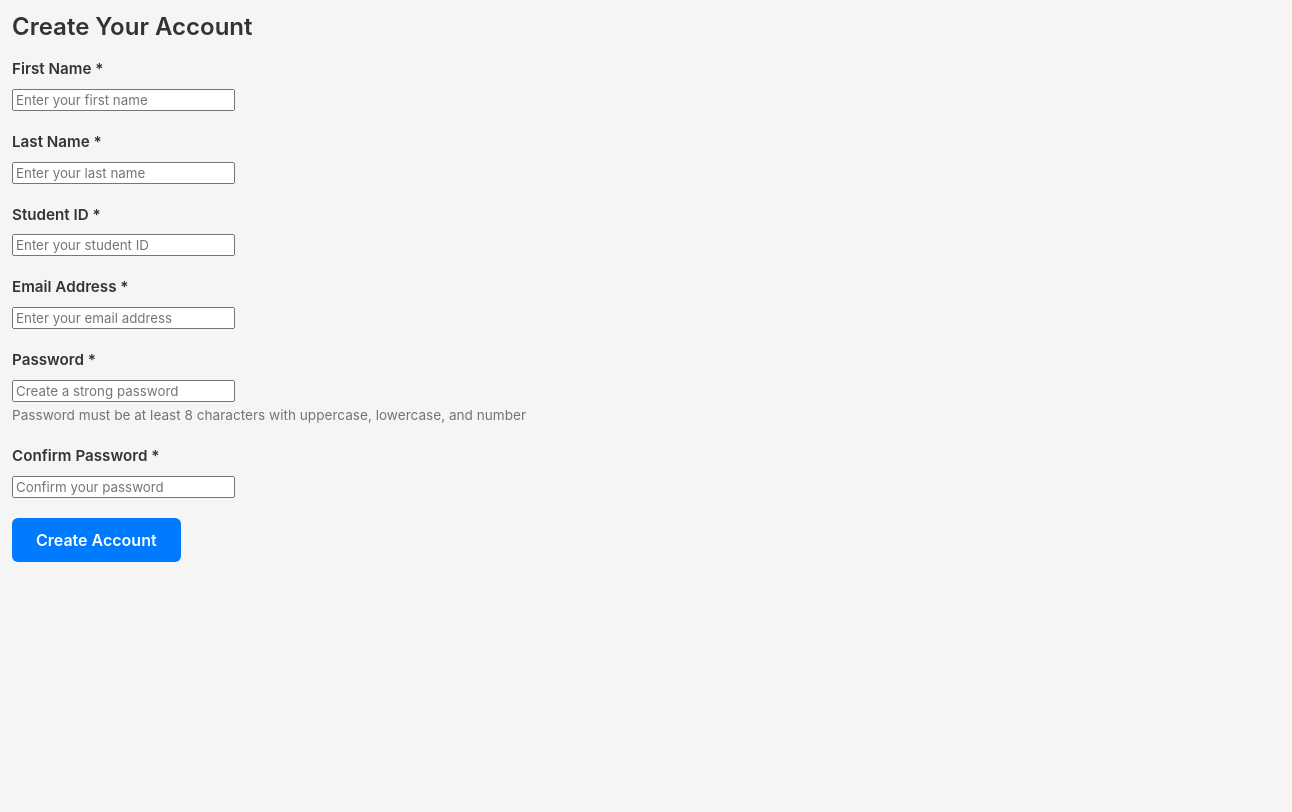
RegisterForm › handles register action throwing an error
Type "John" into the field labelled "First Name *" at [124, 100], box [12,89,235,111]
Type "Doe" into the field labelled "Last Name *" at [124, 173], box [12,162,235,184]
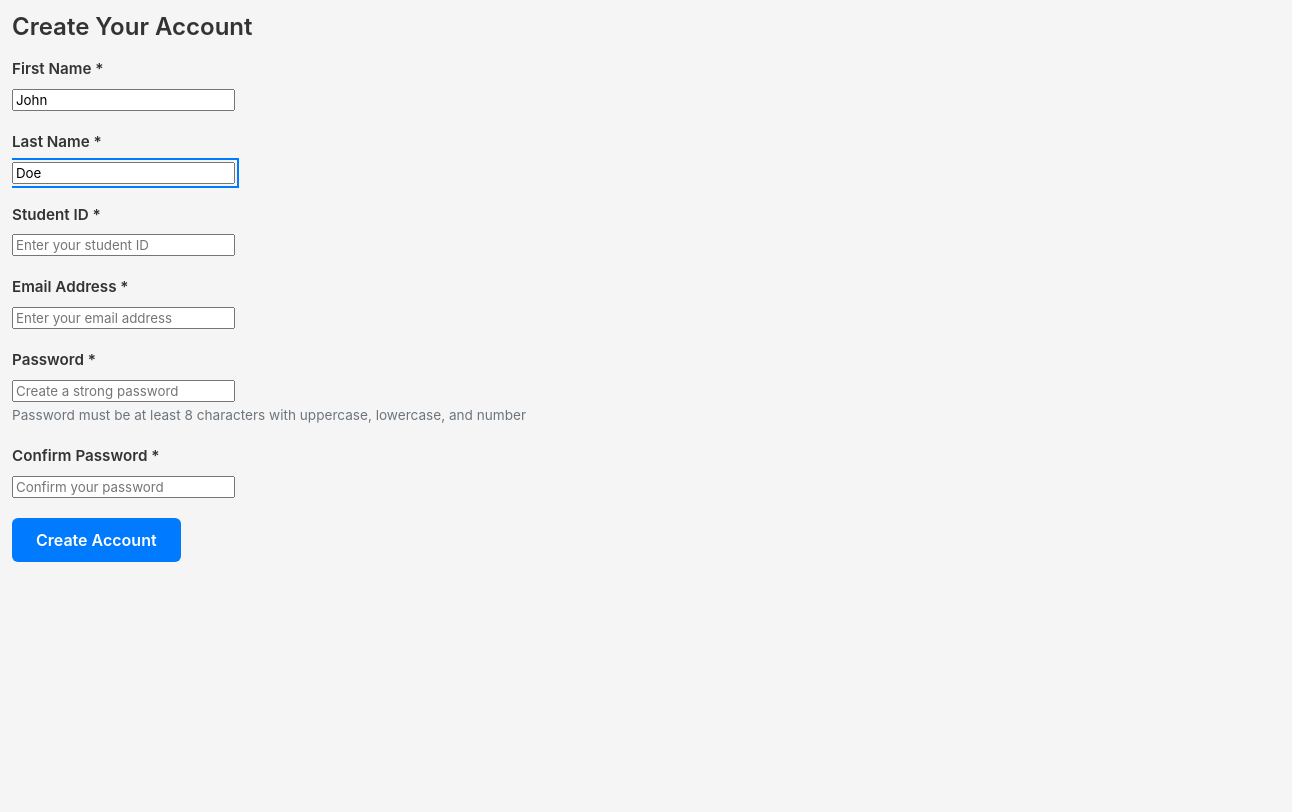
Type "STU123456" into the field labelled "Student ID *" at [124, 245], box [12,234,235,256]
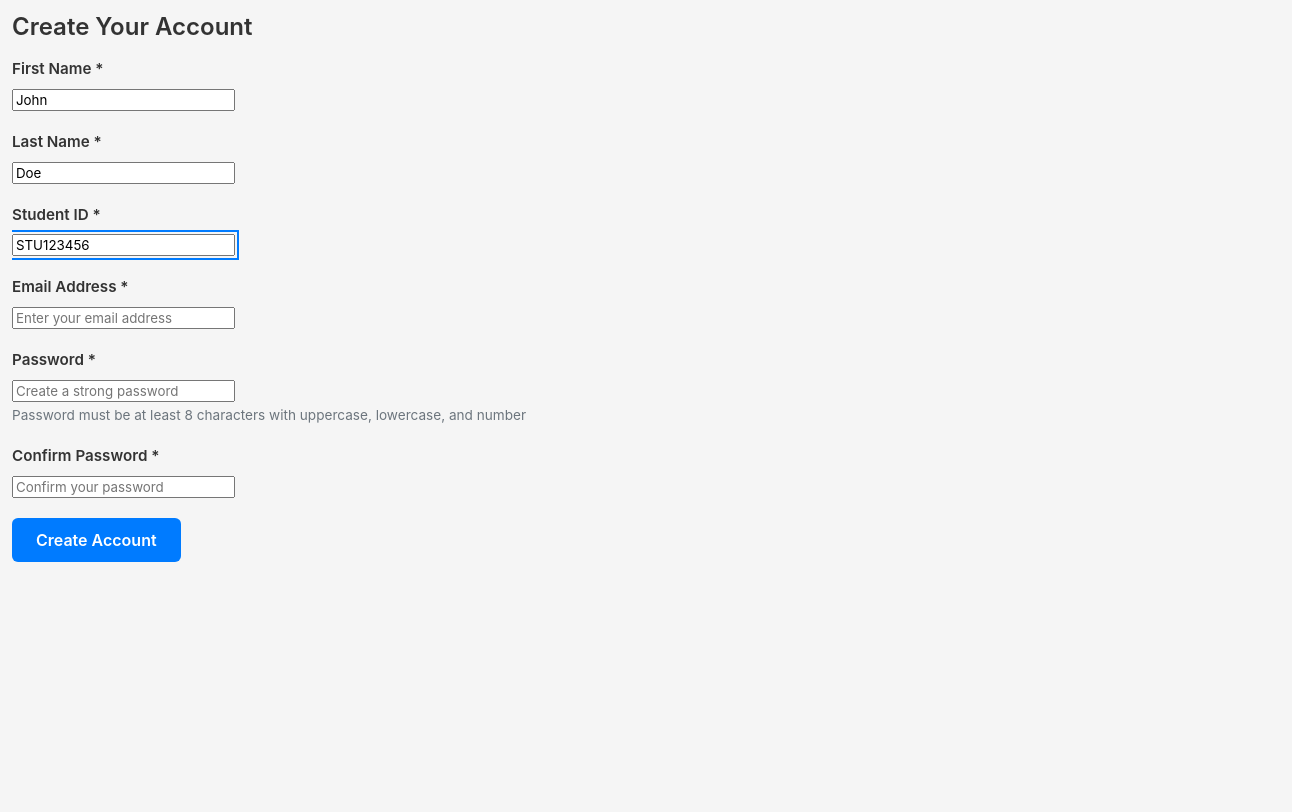
Type "john.doe@example.com" into the field labelled "Email Address *" at [124, 318], box [12,307,235,329]
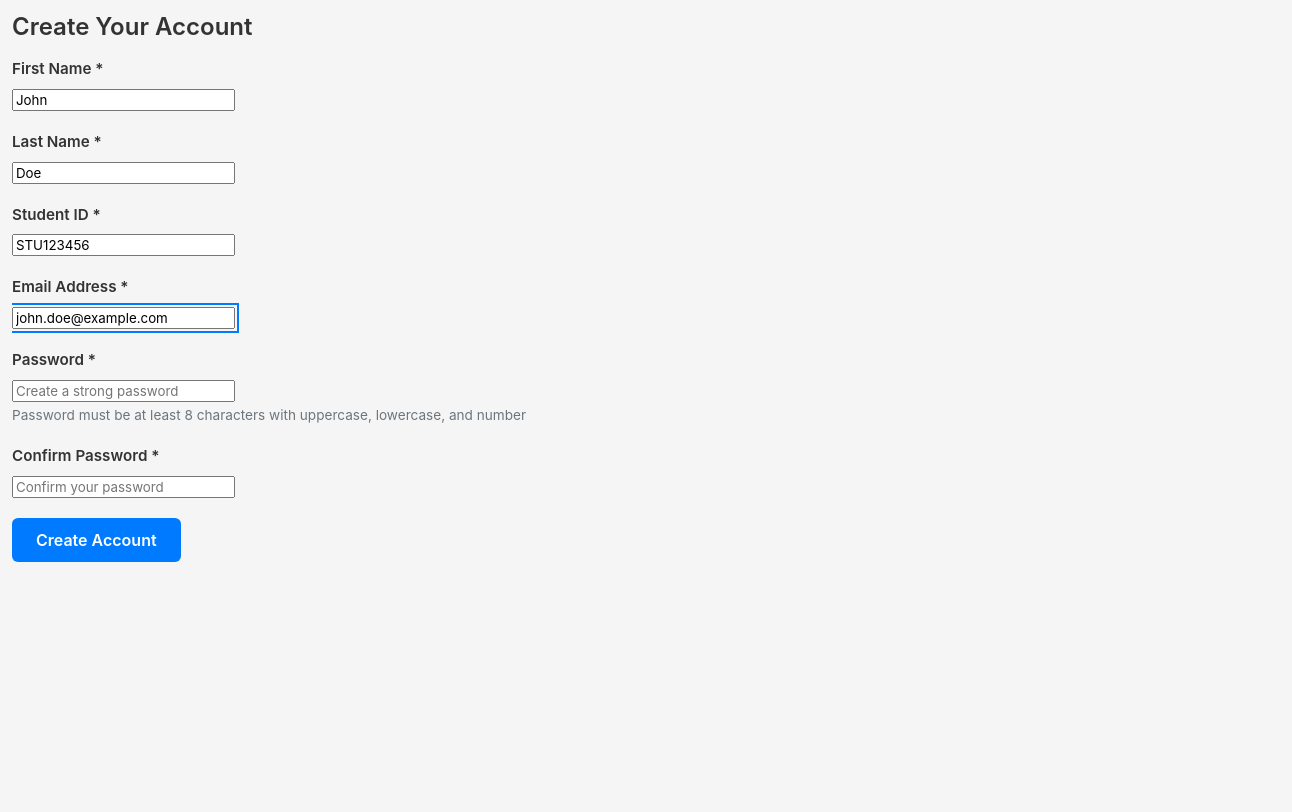
Type "Password123" into the password field labelled "Password *" at [124, 391], box [12,380,235,402]
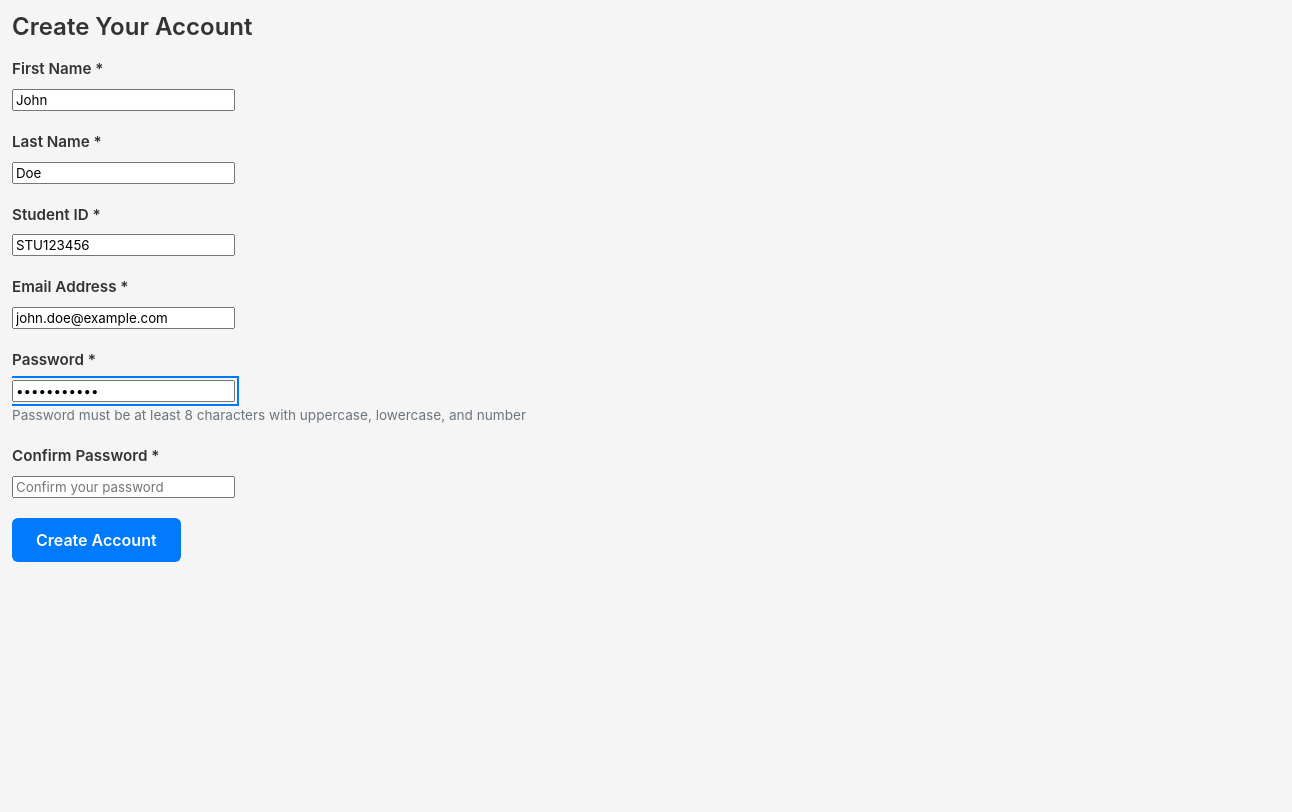
Type "Password123" into the password field labelled "Confirm Password *" at [124, 487], box [12,476,235,498]
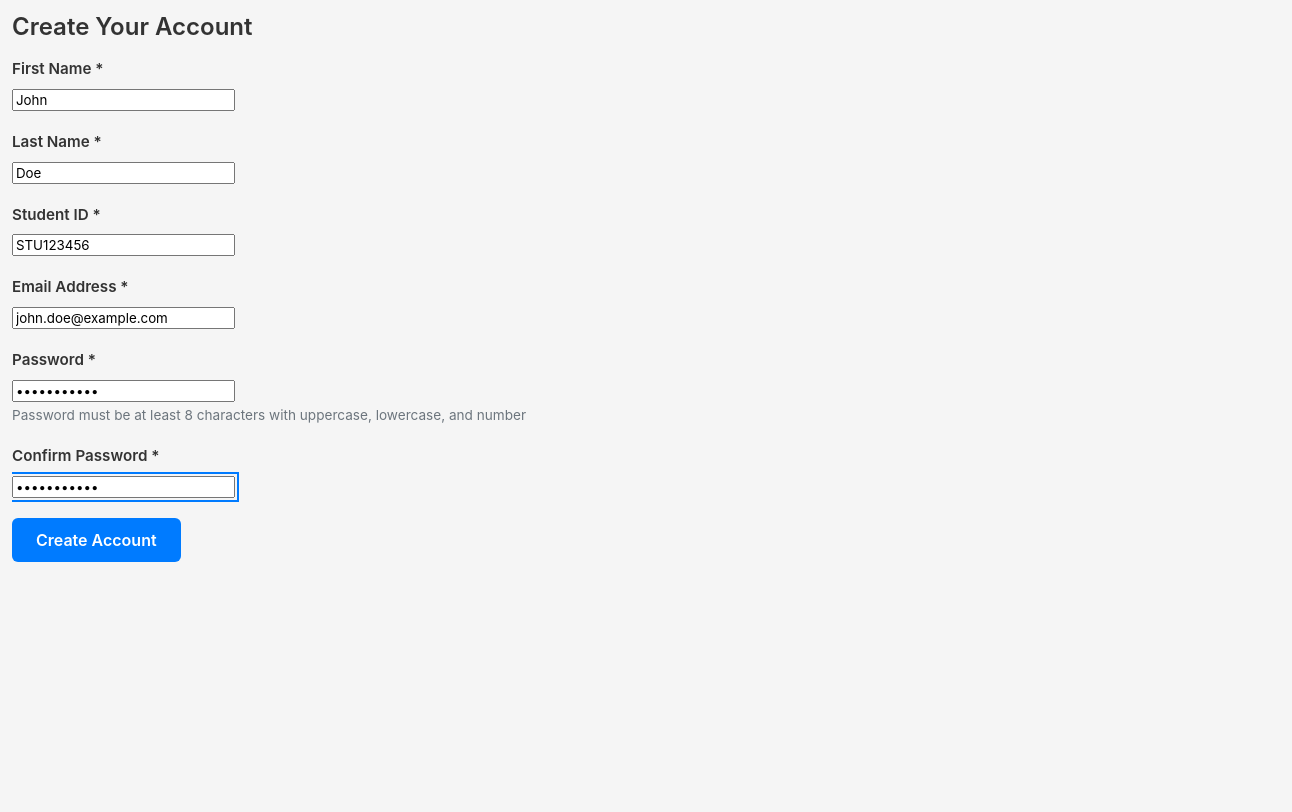
Click the button "Create Account" at [96, 540], box [12,518,181,562]
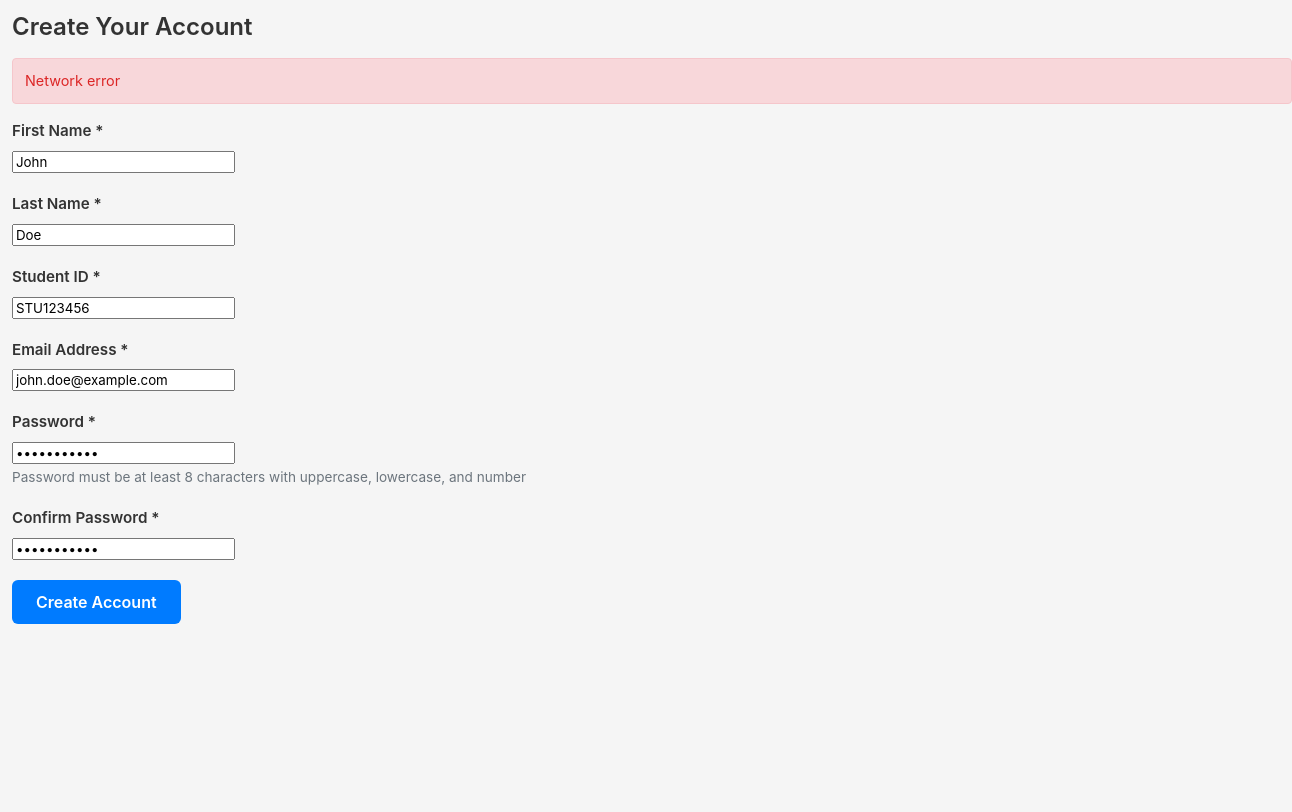
Result: the text "Network error" is shown at [12,58,1291,104]
